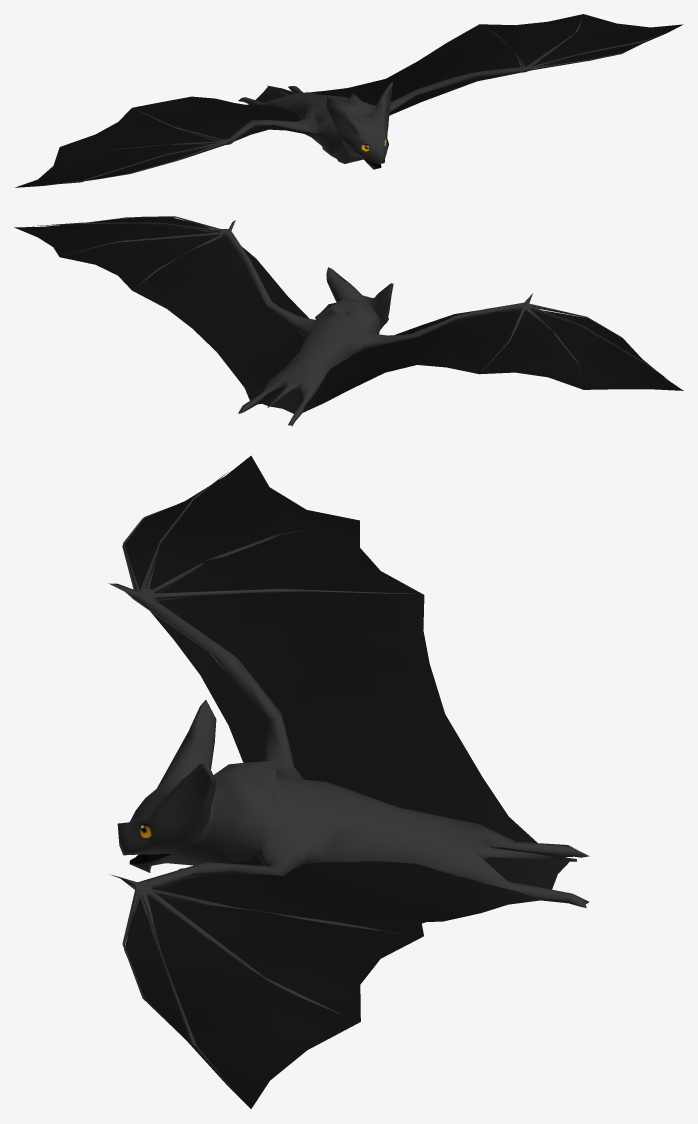
Rendered from Bat.glb.
3 views of the same model, one above another, from view 1: azimuth 30°, elevation 25°; view 2: azimuth 150°, elevation 25°; view 3: azimuth 270°, elevation 25° (orthographic). The views are drawn at different scales.
Visible parts, largest first — view 1: Bat; view 2: Bat; view 3: Bat.
Boxes of the visible parts, bbox=[...] form: Bat: bbox=[15, 14, 683, 187]; Bat: bbox=[14, 216, 683, 426]; Bat: bbox=[108, 456, 589, 1108].
Size of what is drawn, in the model's own units: 1.11 by 0.1282 by 0.3443.
1 material, 1 textured.
